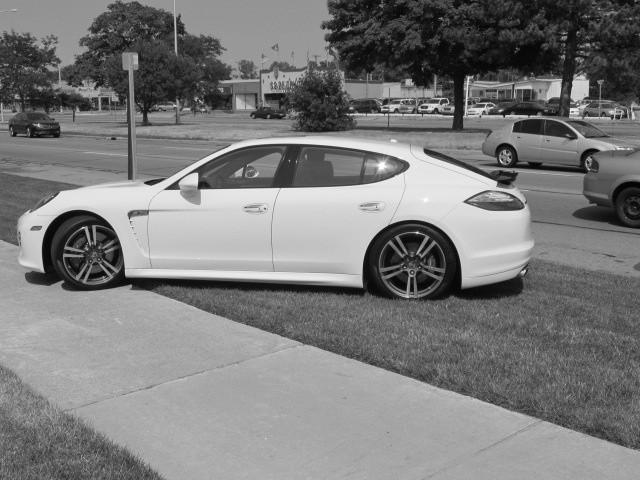car: (17, 137, 533, 300)
